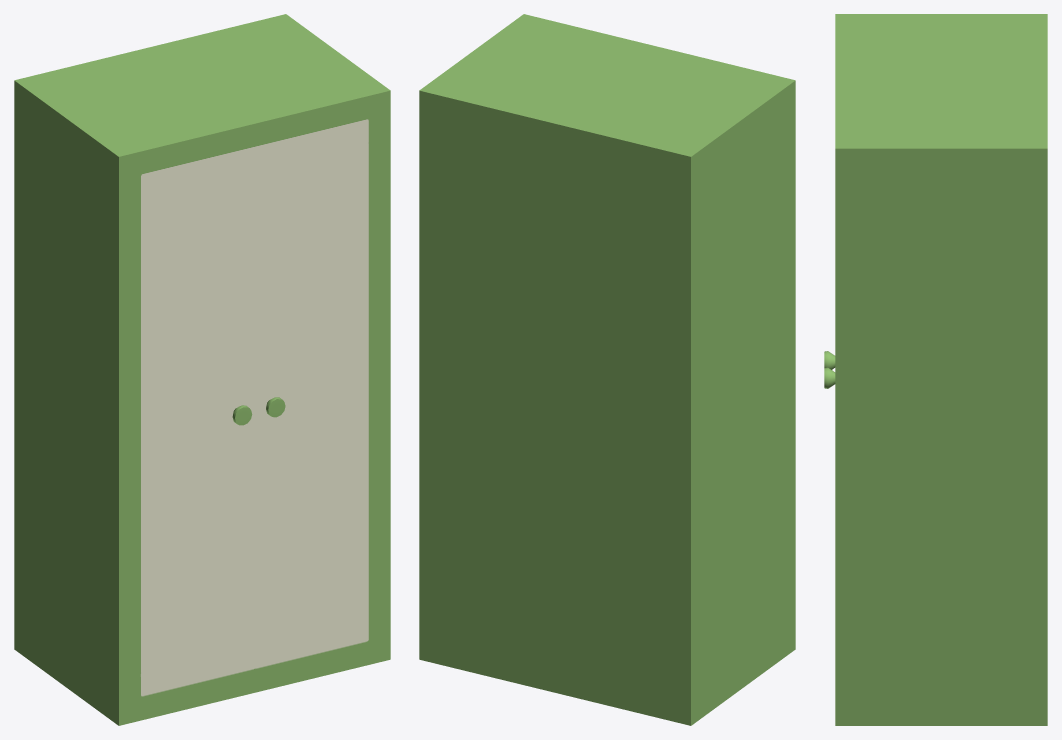
Rendered from closet1_lightgreen.glb.
3 renders of one model, left to right at view 1: azimuth 30°, elevation 25°; view 2: azimuth 150°, elevation 25°; view 3: azimuth 270°, elevation 25°, orthographic.
Parts seen in each view (by area): view 1: Box002; view 2: Box002; view 3: Box002.
Boxes of the visible parts, <box> form: Box002: <box>14,14,390,725</box>; Box002: <box>419,14,795,725</box>; Box002: <box>824,14,1047,725</box>.
Size of the model in its own units: 0.12 by 0.24 by 0.0842.
Materials: 1 (1 with a texture image).
